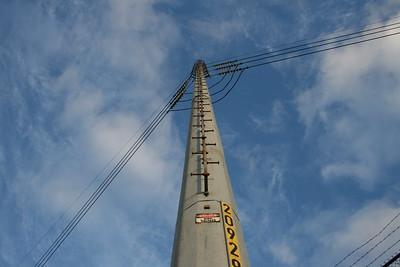power_tower: (166, 51, 252, 267)
